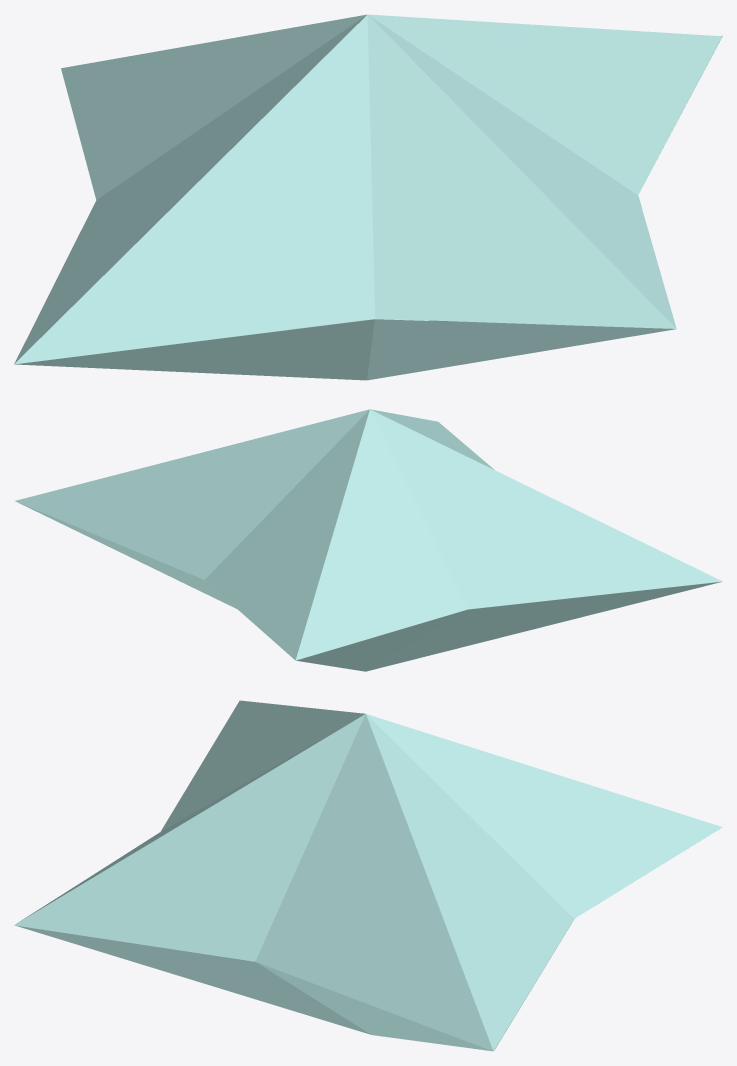
Rendered from dsfdsfs.gltf.
3 views of the same model, one above another, from view 1: azimuth 30°, elevation 25°; view 2: azimuth 150°, elevation 25°; view 3: azimuth 270°, elevation 25° (orthographic). The views are drawn at different scales.
Parts seen in each view (by area): view 1: Cube.001; view 2: Cube.001; view 3: Cube.001.
Part boxes in pixels (box(x1,y1,x2,y2)): Cube.001: box(14, 14, 722, 380); Cube.001: box(14, 409, 722, 671); Cube.001: box(14, 700, 722, 1051).
Bounding box in the file's own units: 1.92 × 0.7916 × 1.59.
